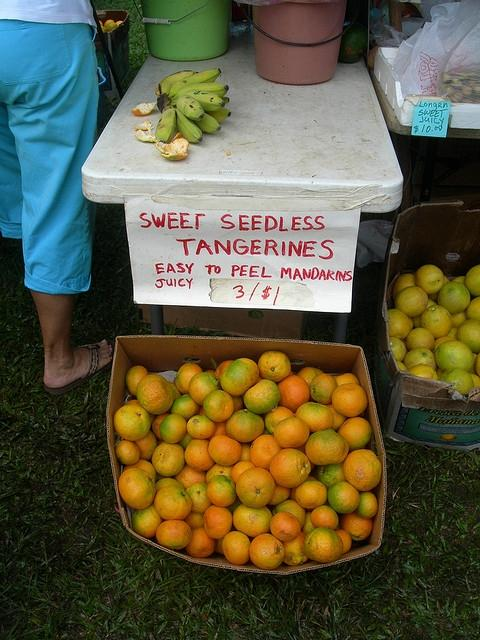banana: (168, 68, 222, 98), (172, 89, 225, 112), (165, 82, 229, 100), (156, 70, 200, 96), (174, 107, 202, 143), (169, 94, 205, 120), (155, 108, 176, 144), (193, 113, 220, 133), (204, 108, 231, 122)
lemon: (269, 448, 311, 488), (343, 449, 382, 491), (118, 466, 156, 509), (236, 467, 275, 508), (137, 374, 174, 415), (306, 429, 348, 465), (303, 527, 343, 563), (225, 409, 264, 443), (434, 339, 474, 372), (332, 382, 368, 418), (278, 375, 311, 413), (244, 380, 280, 414), (296, 402, 332, 436), (188, 372, 223, 406), (421, 304, 454, 338), (274, 418, 310, 448), (437, 282, 470, 314), (394, 286, 428, 317), (208, 435, 242, 466), (340, 511, 373, 541), (272, 499, 306, 528), (222, 531, 250, 565), (438, 368, 474, 394), (414, 264, 445, 294), (281, 532, 308, 566), (173, 464, 207, 491), (266, 406, 296, 435), (175, 362, 202, 394), (402, 347, 438, 371), (456, 319, 480, 354), (160, 414, 188, 444), (133, 430, 158, 461), (412, 298, 437, 328), (186, 414, 216, 439), (311, 505, 340, 530), (406, 328, 436, 352), (388, 308, 410, 339), (322, 402, 346, 430), (392, 274, 416, 300), (116, 440, 140, 466), (356, 491, 378, 519), (407, 364, 439, 380), (464, 264, 480, 296), (333, 529, 352, 555), (390, 337, 406, 362), (184, 512, 204, 530), (335, 373, 360, 387), (466, 296, 480, 320), (451, 312, 467, 329), (230, 395, 243, 411), (468, 372, 480, 388), (446, 327, 458, 340), (454, 276, 466, 285)
orange: (304, 428, 350, 466), (342, 449, 382, 491), (269, 448, 311, 488), (236, 467, 276, 508), (118, 468, 156, 510), (220, 358, 259, 397), (304, 527, 344, 563), (138, 374, 174, 414), (232, 503, 272, 538), (154, 484, 192, 520), (250, 434, 286, 472), (248, 534, 286, 570), (226, 409, 266, 443), (331, 382, 368, 418), (114, 406, 150, 442), (243, 379, 280, 414), (277, 374, 310, 412), (338, 417, 372, 452), (188, 372, 223, 406), (152, 441, 185, 477), (296, 402, 333, 434), (156, 520, 193, 550), (340, 509, 373, 542), (131, 503, 162, 538), (184, 439, 216, 472), (258, 350, 291, 382), (206, 474, 237, 508), (208, 435, 242, 466), (274, 418, 309, 448), (328, 482, 360, 514), (204, 504, 232, 540), (317, 459, 348, 491), (203, 390, 234, 422), (222, 531, 251, 565), (272, 499, 306, 528), (270, 511, 302, 541), (280, 532, 308, 566), (186, 527, 216, 558), (294, 480, 326, 509), (174, 462, 207, 490), (264, 406, 294, 436), (175, 363, 203, 394), (170, 394, 202, 421), (160, 414, 188, 444), (310, 374, 338, 404), (186, 482, 212, 514), (122, 459, 157, 482), (186, 414, 216, 439), (132, 430, 156, 460), (125, 365, 148, 396), (310, 505, 338, 530), (115, 440, 140, 466), (206, 463, 236, 483), (230, 462, 255, 486), (356, 492, 378, 519), (298, 366, 324, 388), (268, 484, 290, 506), (156, 478, 186, 494), (215, 360, 235, 384), (209, 420, 231, 441), (183, 510, 205, 530), (234, 442, 252, 466), (301, 512, 316, 535), (336, 372, 360, 386), (230, 396, 243, 414), (286, 486, 296, 502), (254, 374, 264, 385)
